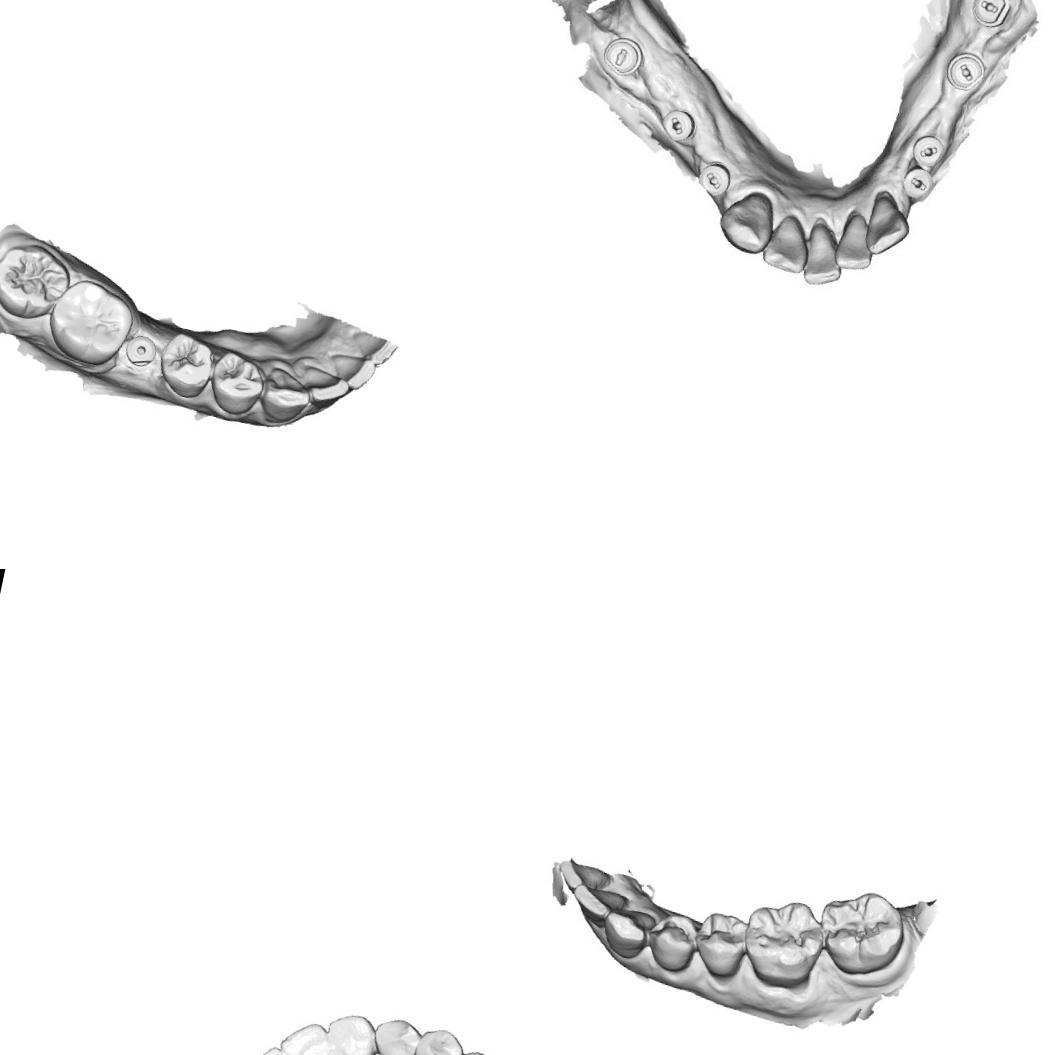canine: (712, 183, 780, 258), (256, 364, 317, 432), (597, 902, 661, 964), (366, 1014, 424, 1055)
implant: (120, 330, 163, 371)
implant_minus: (598, 32, 650, 82), (942, 48, 989, 96), (655, 102, 699, 146), (693, 157, 737, 201), (908, 130, 948, 171), (898, 164, 937, 204), (967, 0, 1017, 31)
incisor: (798, 220, 852, 292), (860, 193, 916, 262), (759, 210, 816, 277), (831, 210, 882, 276), (296, 361, 358, 414), (567, 880, 631, 929), (320, 1008, 383, 1055), (552, 856, 617, 899), (272, 1016, 341, 1055), (324, 348, 380, 396), (344, 331, 399, 368)
molar: (809, 880, 915, 988), (734, 891, 830, 997), (40, 272, 141, 372), (0, 234, 76, 327)
premolar: (686, 905, 754, 986), (151, 327, 220, 404), (203, 348, 271, 421), (642, 906, 704, 977), (405, 1023, 466, 1055)
